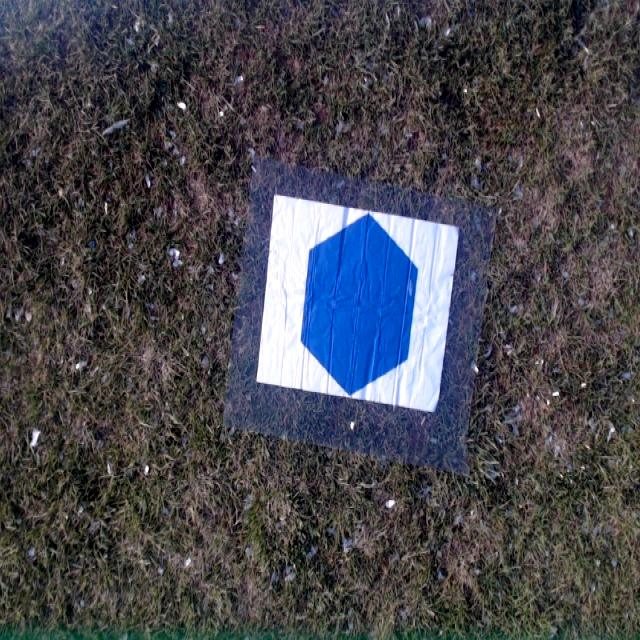blue_hexagon: (299, 215, 419, 397)
